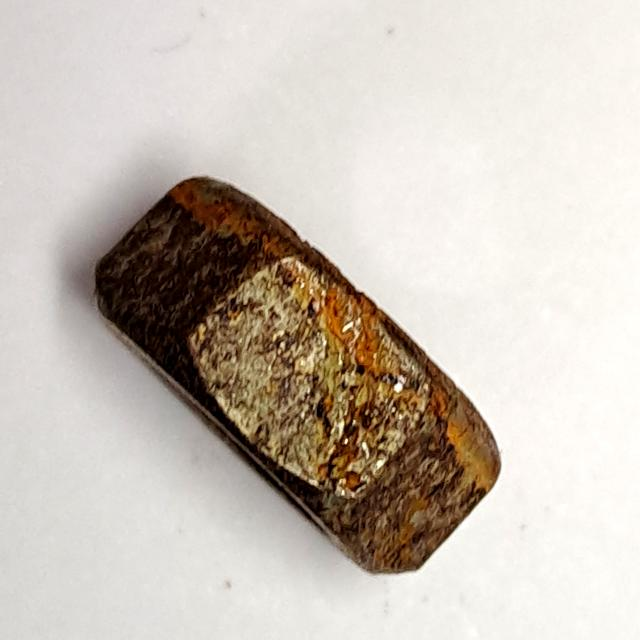Side_Rust: (87, 166, 519, 589)
